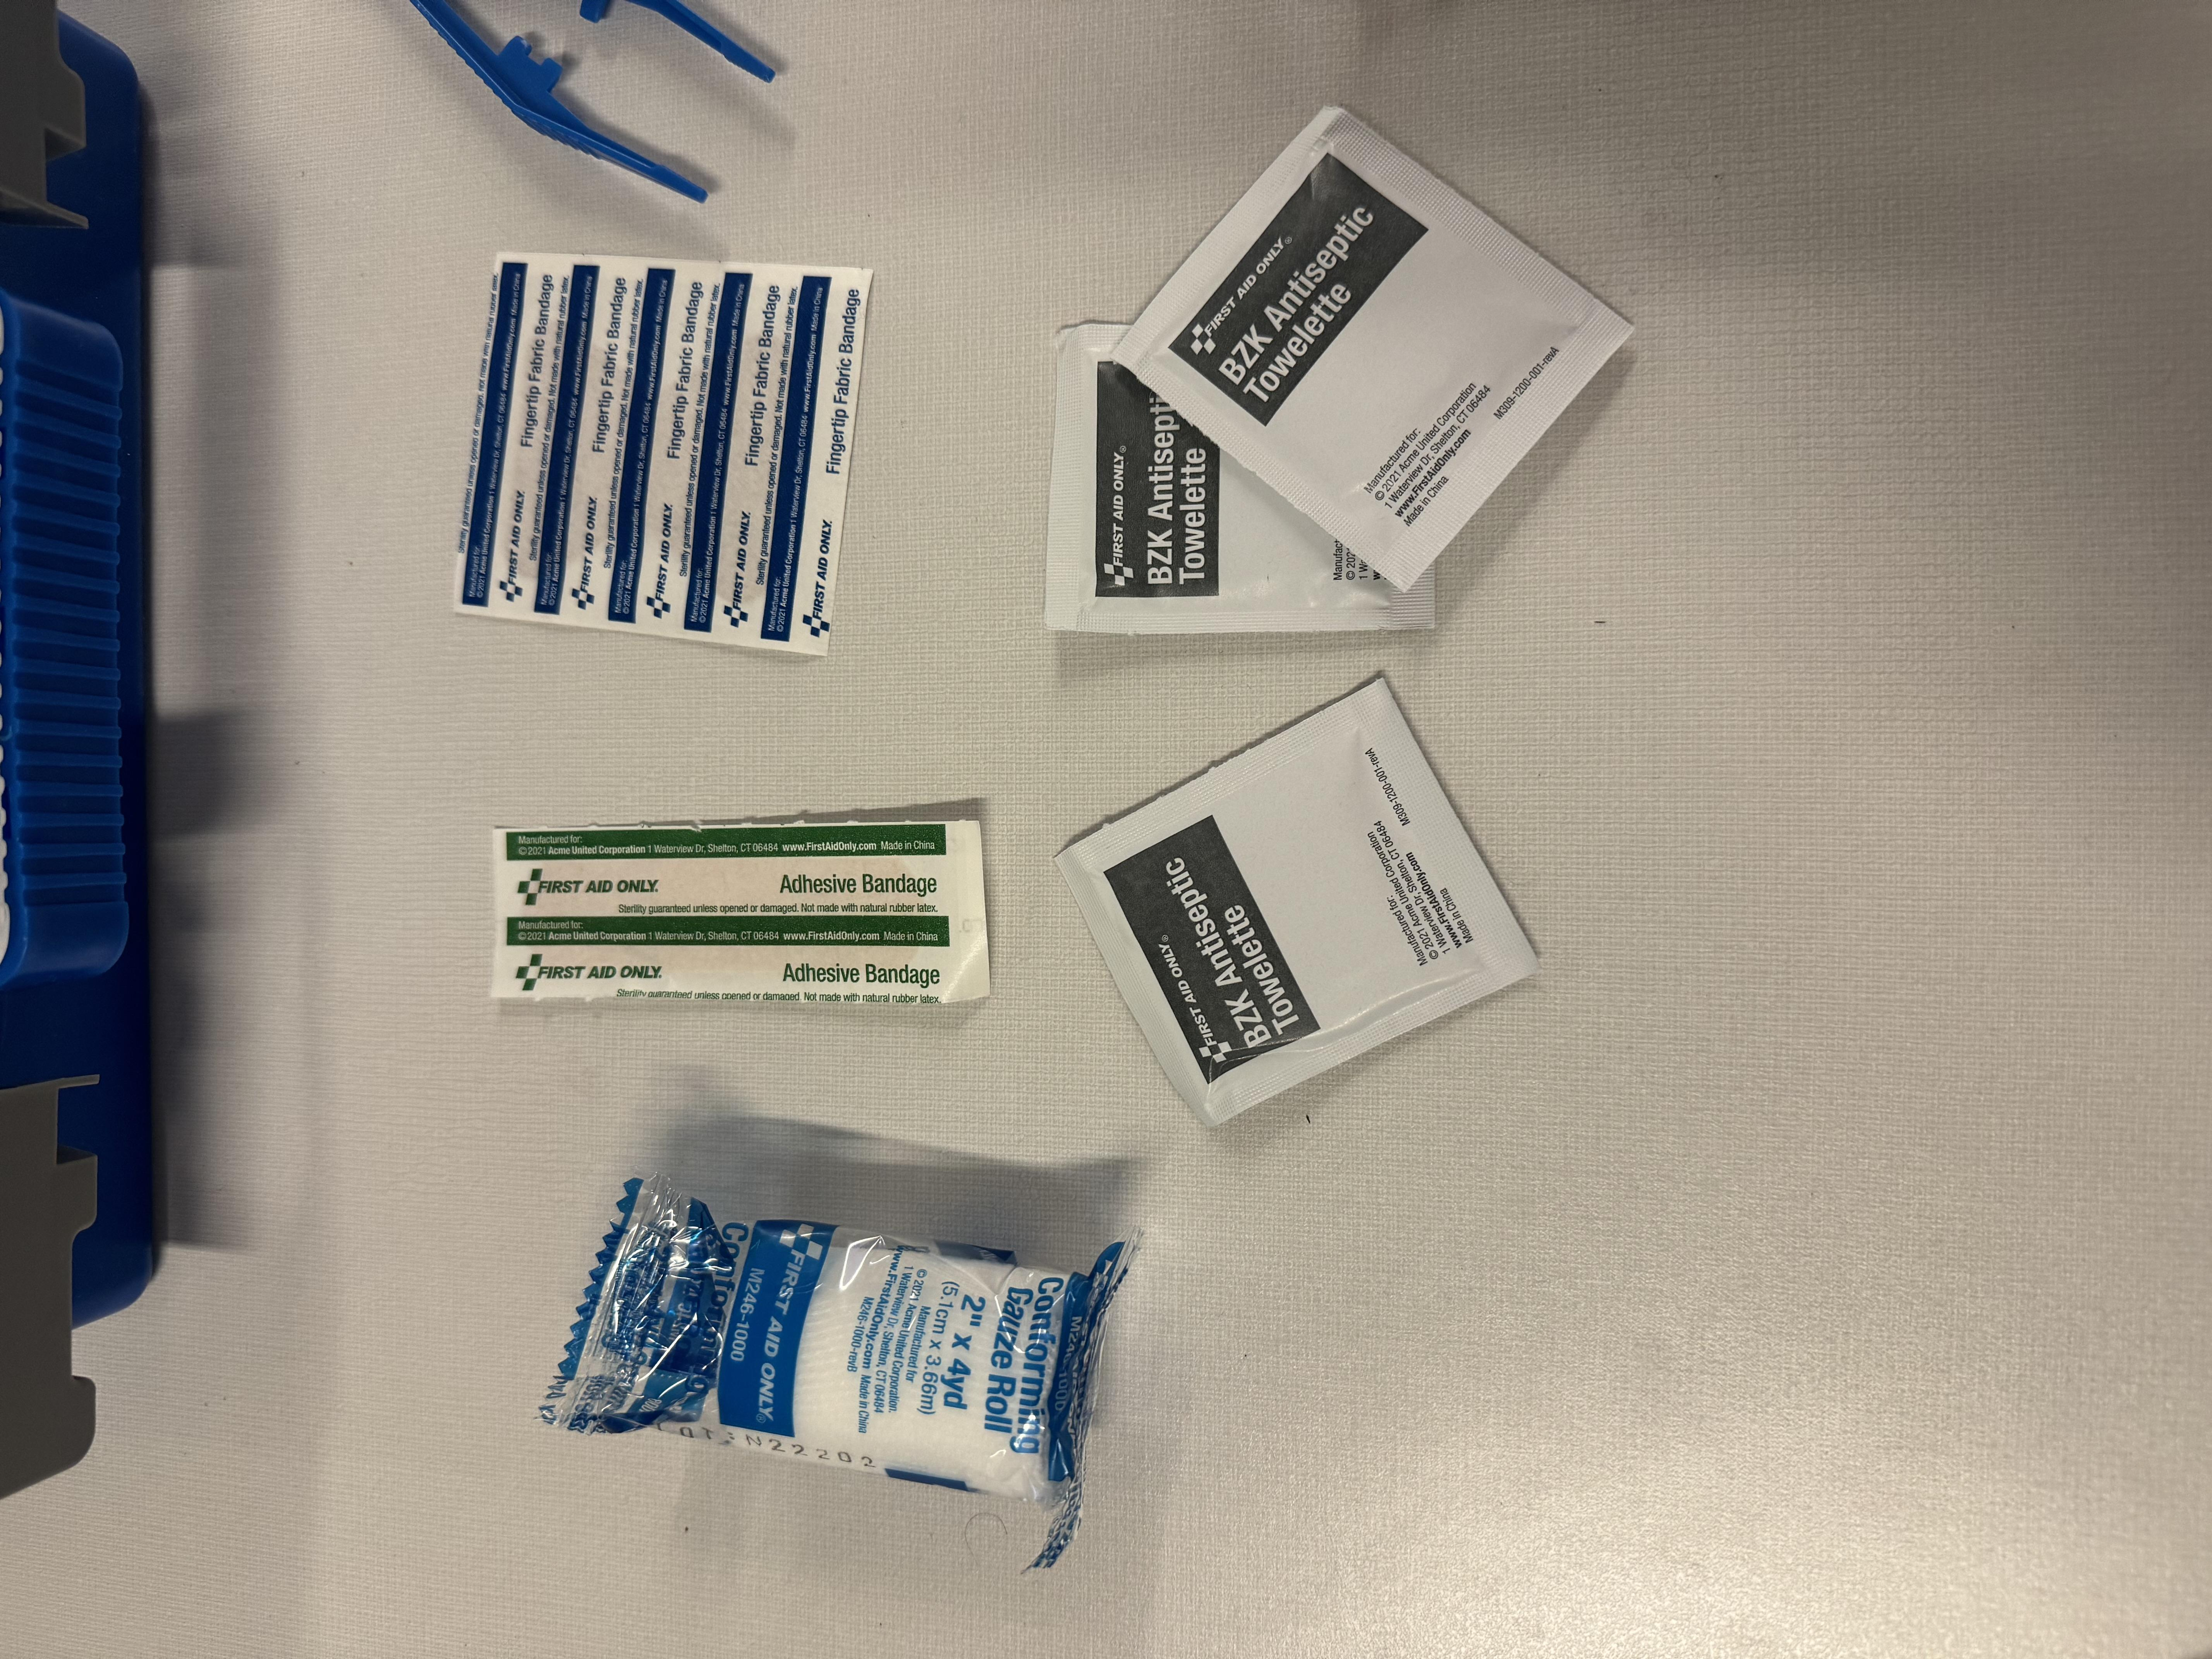antiseptic wipe: (1355, 760, 2146, 1258), (679, 793, 1334, 1176)
bandage: (1310, 308, 1900, 704), (813, 324, 1155, 763)
gauze: (124, 347, 620, 913)
tweezers: (1918, 298, 2212, 601)
